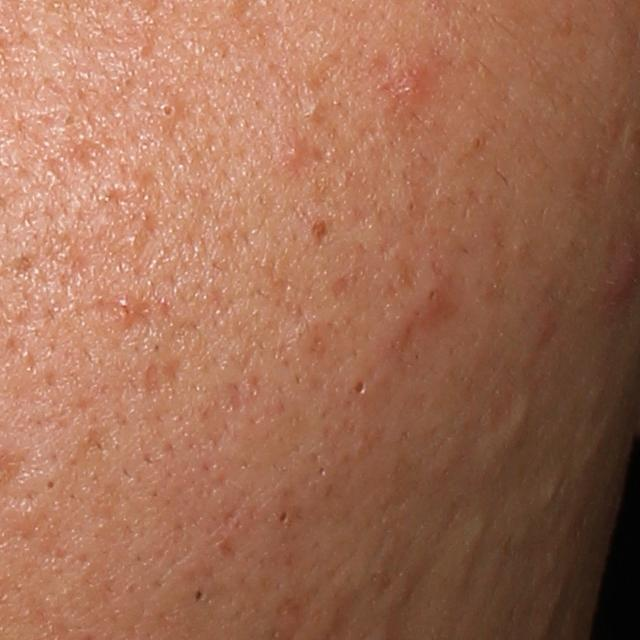atrophic_scar: (143, 362, 169, 399)
comedo: (508, 394, 536, 432), (541, 473, 566, 509), (155, 96, 181, 124), (302, 100, 326, 123), (42, 473, 59, 495), (351, 378, 370, 397), (190, 588, 205, 605)
papule: (390, 55, 435, 103), (606, 243, 640, 302), (419, 281, 447, 321), (284, 142, 306, 165)
